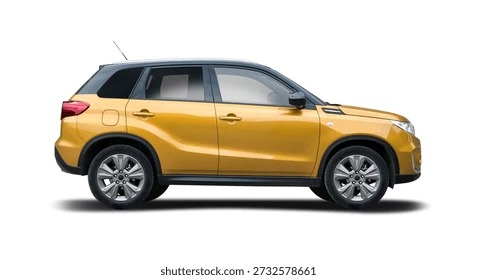car: (44, 52, 431, 206), (40, 54, 417, 203)
